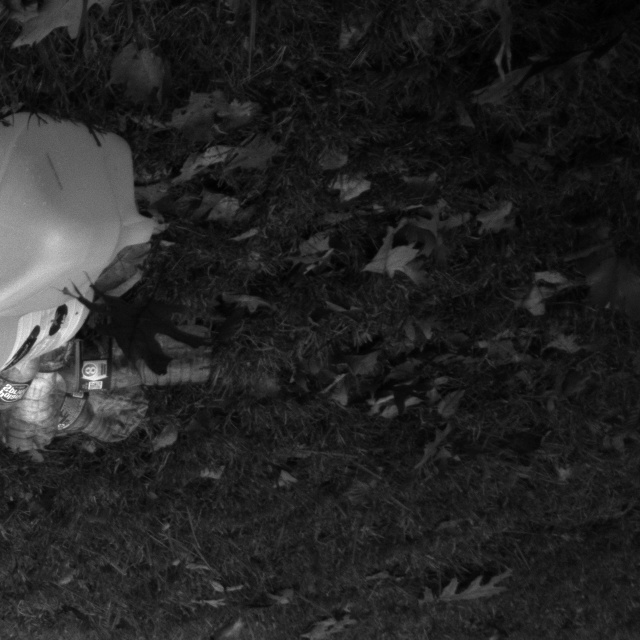bottle: (56, 324, 261, 406), (11, 320, 89, 461)
can: (0, 111, 178, 292), (0, 251, 61, 421)
